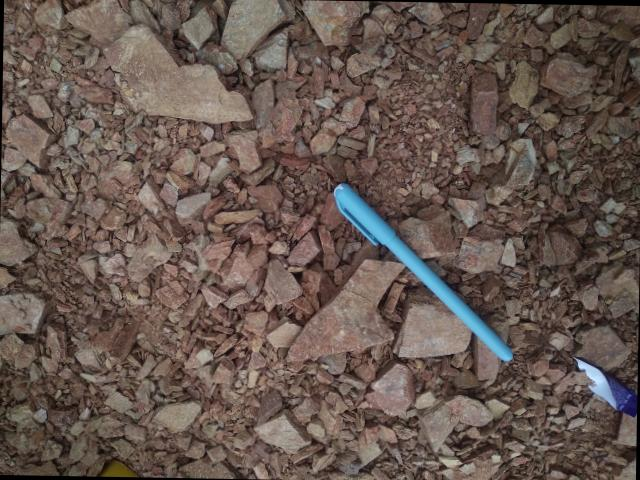PEN: (111, 300, 339, 480), (102, 315, 311, 480)
